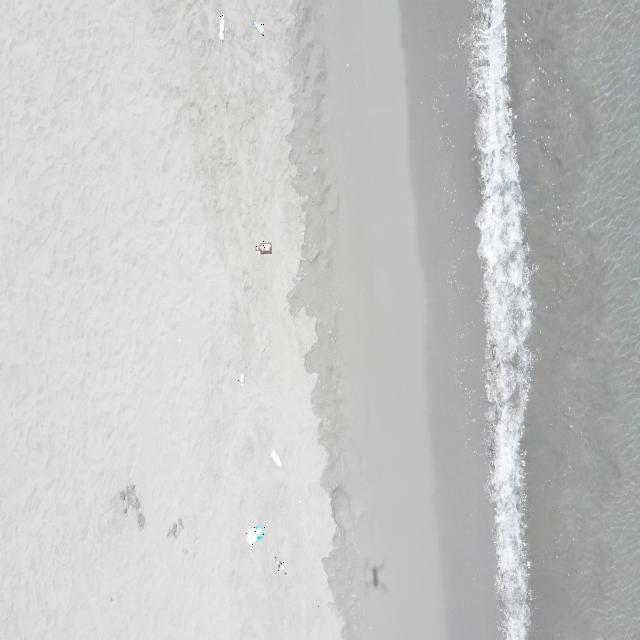plastic-bottle: (245, 524, 265, 545), (254, 240, 273, 256), (270, 449, 283, 469), (273, 556, 286, 574), (219, 14, 226, 42), (253, 20, 264, 36), (238, 369, 246, 391)
